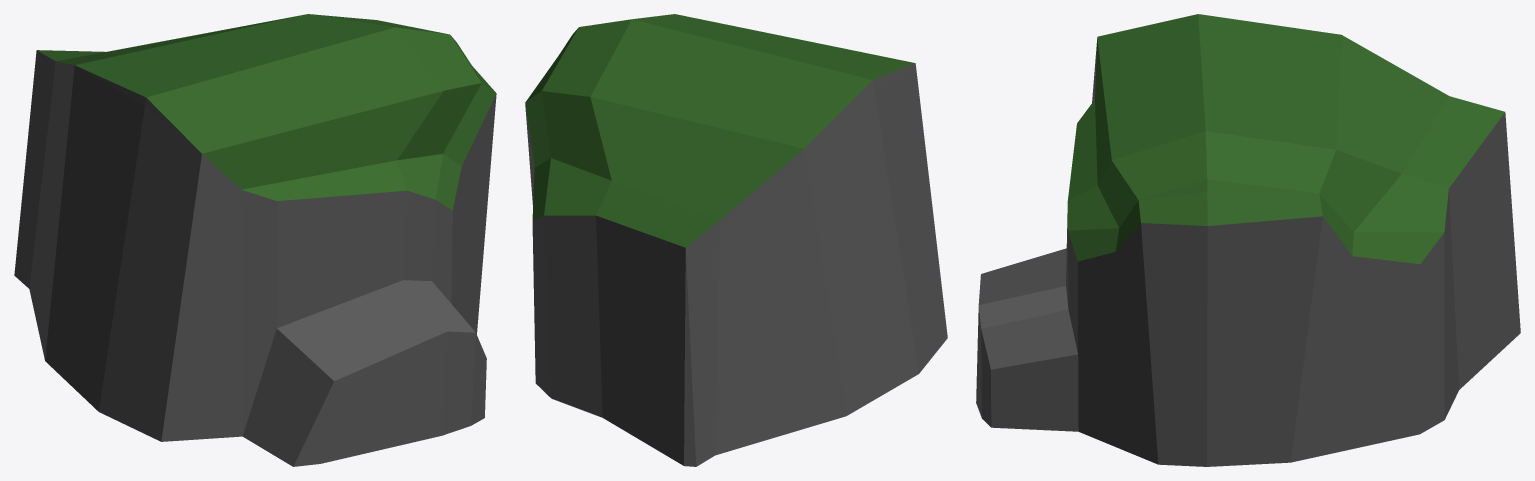
Rendered from Stain_12.fbx.
3 views of the same model, side by side, from view 1: azimuth 30°, elevation 25°; view 2: azimuth 150°, elevation 25°; view 3: azimuth 270°, elevation 25° (orthographic). The views are drawn at different scales.
Visible parts, largest first — view 1: Rock_Moss_6; view 2: Rock_Moss_6; view 3: Rock_Moss_6.
Boxes of the visible parts, box(x1,y1,x2,y2) form: Rock_Moss_6: box(14, 14, 496, 466); Rock_Moss_6: box(525, 14, 947, 466); Rock_Moss_6: box(976, 14, 1520, 466).
Size of the model in its own units: 91.2 by 70.78 by 114.
